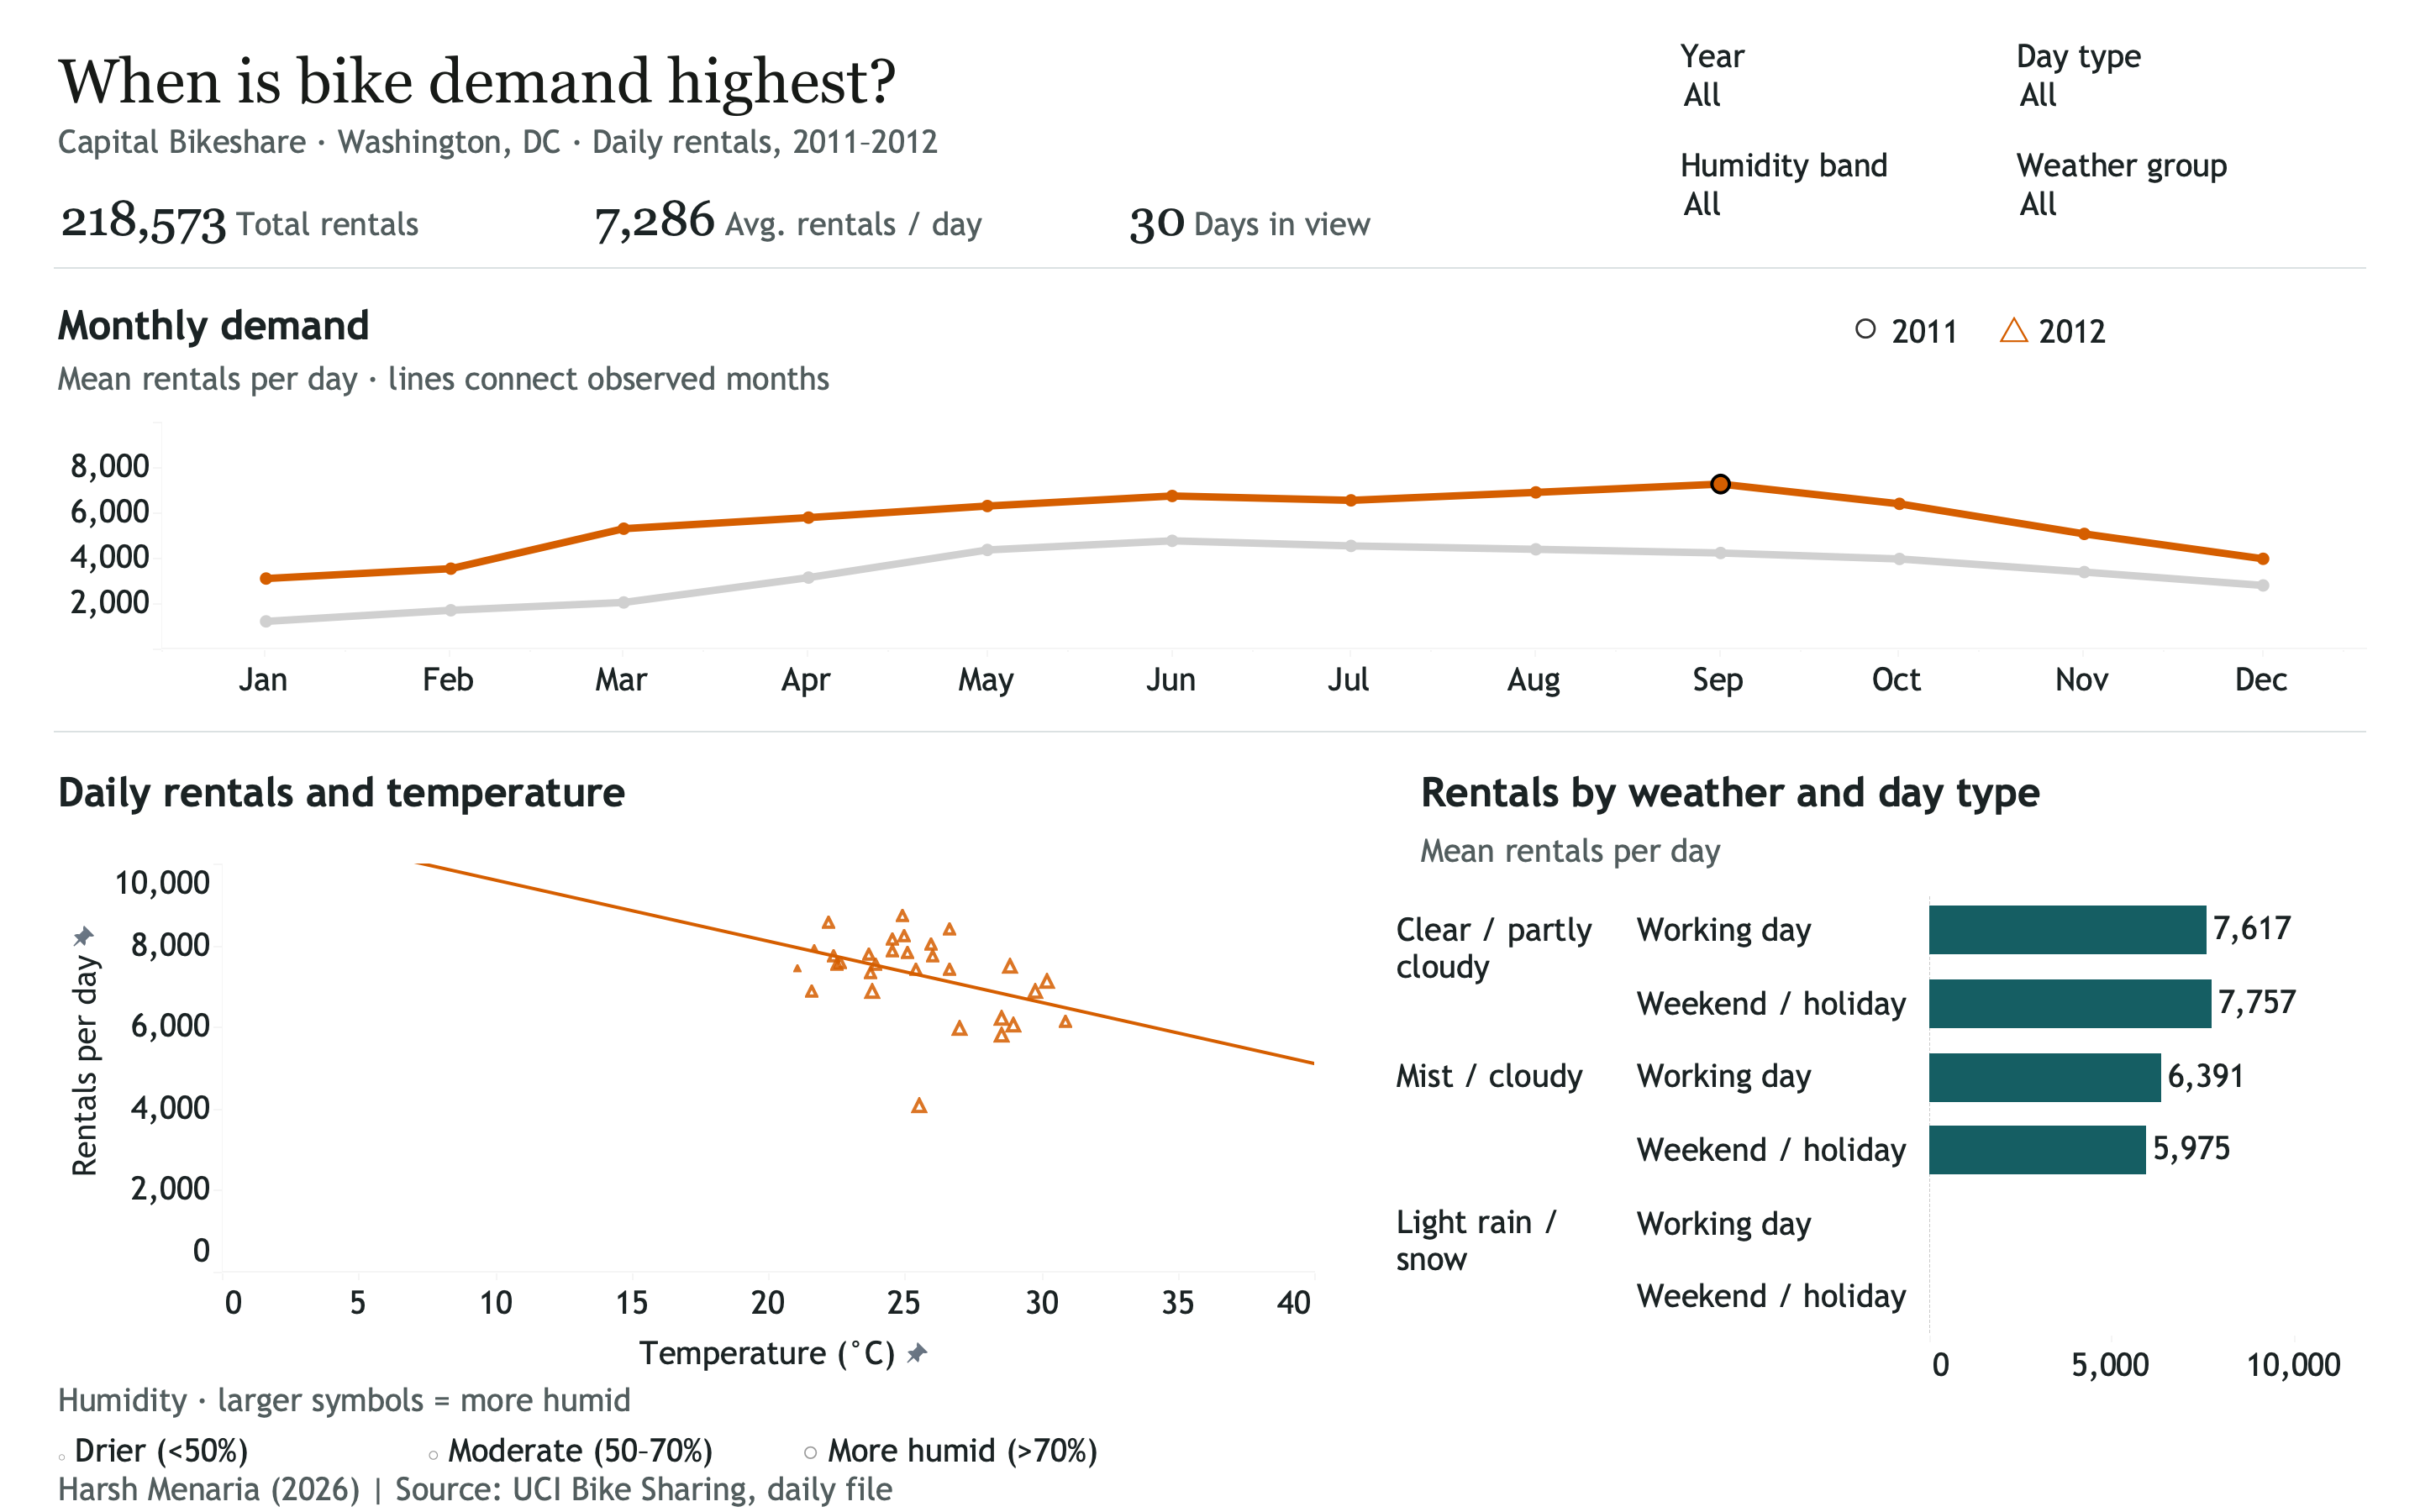

The page's visual inventory and layout, read from the dashboard file:
{"tool":"tableau","page":{"name":"Bike demand | Prototype","canvas":[1440,900],"ordinal":0},"visuals":[{"type":"blank","box":[0,0,1440,900]},{"type":"filter","title":"01 Monthly demand","param":"[federated.bike_demand].[none:Year:nk]","box":[1000,21,180,54]},{"type":"filter","title":"01 Monthly demand","param":"[federated.bike_demand].[none:DayType:nk]","box":[1200,21,208,54]},{"type":"text","box":[32,23,925,52]},{"type":"text","box":[32,86,925,30]},{"type":"filter","title":"02 Temperature and rentals","param":"[federated.bike_demand].[none:Calculation_1907443823489024:nk]","box":[1000,86,180,54]},{"type":"filter","title":"01 Monthly demand","param":"[federated.bike_demand].[none:Weather:nk]","box":[1200,86,208,54]},{"type":"blank","box":[32,159,1376,1]},{"type":"text","box":[1100,178,308,34]},{"type":"text","box":[32,179,1376,29]},{"type":"text","box":[32,214,1376,24]},{"type":"worksheet","title":"01 Monthly demand","mark":"Line","rows":["DailyRentals"],"cols":["Calculation_1435546893139968"],"box":[32,251,1376,165]},{"type":"blank","box":[32,435,1376,1]},{"type":"text","box":[32,457,750,29]},{"type":"text","box":[843,457,565,29]},{"type":"text","box":[843,492,565,30]},{"type":"worksheet","title":"02 Temperature and rentals","mark":"Shape","rows":["DailyRentals"],"cols":["TemperatureC"],"box":[32,514,750,310]},{"type":"worksheet","title":"03 Weather and day type","mark":"Bar","rows":["Weather","DayType"],"cols":["DailyRentals"],"box":[825,532,583,292]},{"type":"text","box":[32,819,600,30]},{"type":"text","box":[32,846,216,35]},{"type":"text","box":[252,846,223.2,35]},{"type":"text","box":[475.2,846,302.4,35]},{"type":"text","box":[32,875,1376,23]}]}

Visuals, with their boxes in screenshot pixels (x1, y1, x2, y2), scaled from the page's 1440x900 canvas onto the 2420x1512 screenshot:
blank: select_region(0, 0, 2419, 1511)
"01 Monthly demand" filter: select_region(1681, 35, 1983, 126)
"01 Monthly demand" filter: select_region(2017, 35, 2366, 126)
text: select_region(54, 39, 1608, 126)
text: select_region(54, 144, 1608, 195)
"02 Temperature and rentals" filter: select_region(1681, 144, 1983, 235)
"01 Monthly demand" filter: select_region(2017, 144, 2366, 235)
blank: select_region(54, 267, 2366, 269)
text: select_region(1849, 299, 2366, 356)
text: select_region(54, 301, 2366, 349)
text: select_region(54, 360, 2366, 400)
"01 Monthly demand" worksheet (Line marks): select_region(54, 422, 2366, 699)
blank: select_region(54, 731, 2366, 732)
text: select_region(54, 768, 1314, 816)
text: select_region(1417, 768, 2366, 816)
text: select_region(1417, 827, 2366, 877)
"02 Temperature and rentals" worksheet (Shape marks): select_region(54, 864, 1314, 1384)
"03 Weather and day type" worksheet (Bar marks): select_region(1386, 894, 2366, 1384)
text: select_region(54, 1376, 1062, 1426)
text: select_region(54, 1421, 417, 1480)
text: select_region(423, 1421, 798, 1480)
text: select_region(798, 1421, 1307, 1480)
text: select_region(54, 1470, 2366, 1509)
